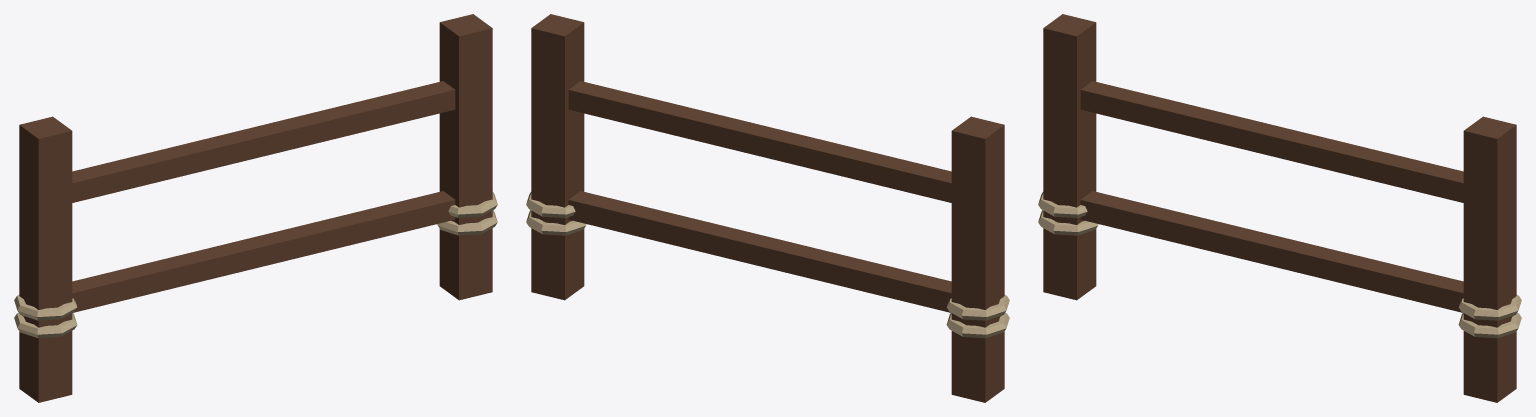
Rendered from PirateCove_FenceStraight_Simple.glb.
The picture shows the model from 3 angles, left to right: view 1: azimuth 30°, elevation 25°; view 2: azimuth 150°, elevation 25°; view 3: azimuth 330°, elevation 25°; orthographic projection.
Visible parts, largest first — view 1: PirateCove_FenceStraight_Simple; view 2: PirateCove_FenceStraight_Simple; view 3: PirateCove_FenceStraight_Simple.
Boxes of the visible parts, box(x1,y1,x2,y2) form: PirateCove_FenceStraight_Simple: box(14, 14, 497, 402); PirateCove_FenceStraight_Simple: box(526, 14, 1009, 402); PirateCove_FenceStraight_Simple: box(1038, 14, 1521, 402).
Size of the model in its own units: 2.27 by 1.2 by 0.27.
